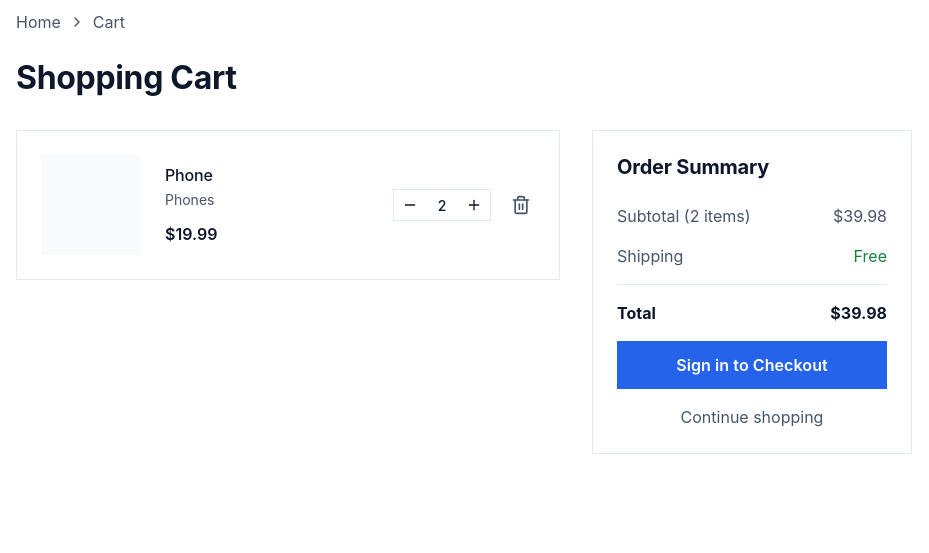
Test case: cart page states › shows the sanitized stock conflict when inventory falls before an update
Click the button named "Increase quantity for Phone" at (474, 205), box [458, 190, 490, 220]
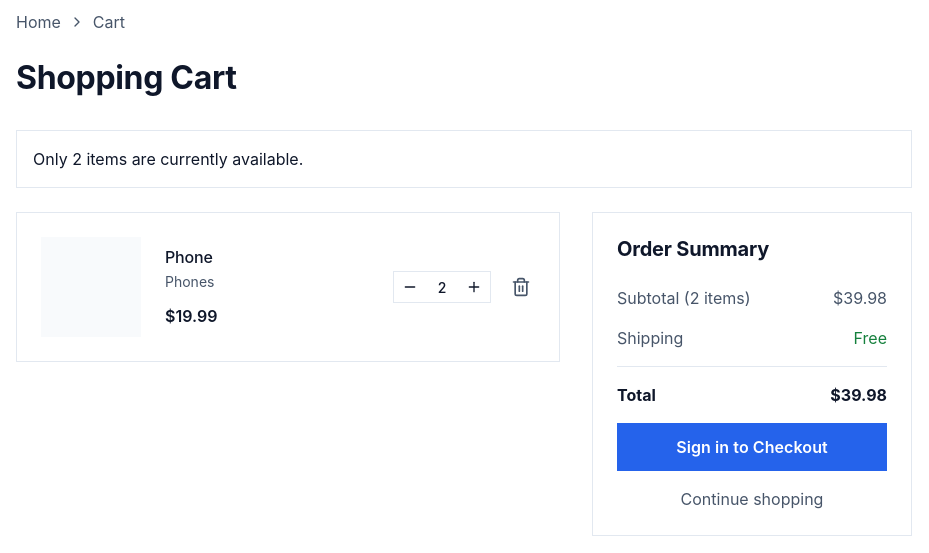
Expected: the heading "Phone" is shown, [165, 246, 217, 266]
Now the message reads "Only 2 items are currently available.", box [33, 149, 303, 169]
